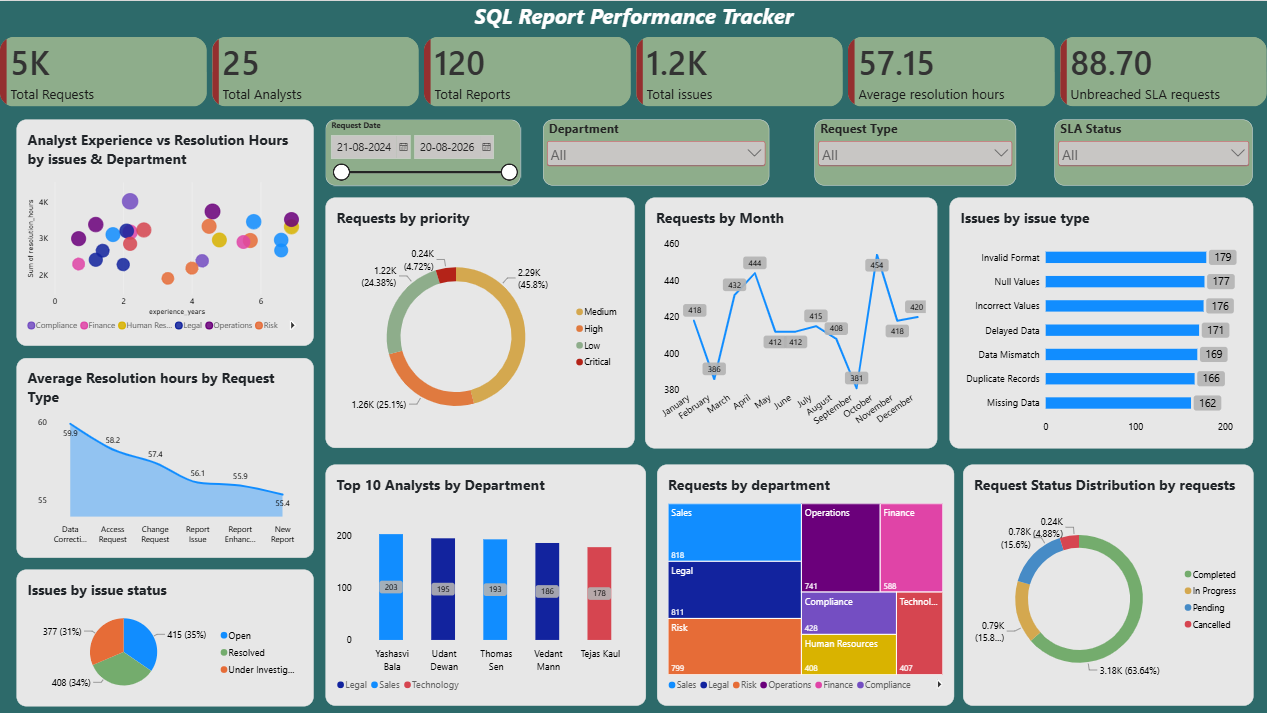

The dashboard page shown, as its layout file describes it:
{"tool":"powerbi","page":{"name":"Page 1","canvas":[1920,1080],"ordinal":0},"visuals":[{"type":"textbox","box":[0,0,1920,55],"z":0},{"type":"cardVisual","fields":{"Data":["Count(report_requests.request_id)","Count(analysts.analyst_id)","Count(report_requests.report_id)","Count(data_quality_issues.issue_id)","Avg(report_requests.resolution_hours)","report_requests.SLA Percentage"]},"box":[0,55,1920,105],"z":1000},{"type":"treemap","title":"Requests by department","fields":{"Group":["analysts.department"],"Values":["CountNonNull(report_requests.request_id)"]},"box":[995,702.5,450,365],"z":2000},{"type":"donutChart","title":"Requests by priority","fields":{"Category":["report_requests.priority"],"Y":["CountNonNull(report_requests.request_id)"]},"box":[492.9,297.5,467.9,379.3],"z":3000},{"type":"lineChart","title":"Requests by Month","fields":{"Category":["report_requests.request_date.Variation.Date Hierarchy.Month"],"Y":["CountNonNull(report_requests.request_id)"]},"box":[977.5,297.5,442.5,380],"z":4000},{"type":"donutChart","title":"Request Status Distribution by requests","fields":{"Y":["Count(report_requests.request_id)"],"Category":["report_requests.status"]},"box":[1457.5,702.5,440,365],"z":5000},{"type":"areaChart","title":"Average Resolution hours by Request Type","fields":{"Category":["report_requests.request_type"],"Y":["Avg(report_requests.resolution_hours)"]},"box":[25,540,450,302.5],"z":6000},{"type":"columnChart","title":"Top 10 Analysts by Department","fields":{"Category":["analysts.analyst_name"],"Y":["CountNonNull(report_requests.request_id)"],"Series":["analysts.department"]},"box":[492.5,702.5,485,365],"z":7000},{"type":"barChart","title":"Issues by issue type","fields":{"Category":["data_quality_issues.issue_type"],"Y":["CountNonNull(data_quality_issues.issue_id)"]},"box":[1437.5,297.5,460,380],"z":8000},{"type":"pieChart","title":"Issues by issue status","fields":{"Category":["data_quality_issues.issue_status"],"Y":["CountNonNull(data_quality_issues.issue_id)"]},"box":[25,860,450,207.5],"z":9000},{"type":"scatterChart","title":"Analyst Experience vs Resolution Hours by issues & Department","fields":{"X":["Sum(analysts.experience_years)"],"Y":["Sum(data_quality_issues.resolution_hours)"],"Series":["analysts.department"],"Size":["CountNonNull(data_quality_issues.issue_id)"],"Category":["analysts.analyst_name"]},"box":[25,180,450,342.5],"z":10000},{"type":"slicer","fields":{"Values":["report_requests.request_date"]},"box":[492.5,180,295,100],"z":11000},{"type":"slicer","fields":{"Values":["analysts.department"]},"box":[822.5,180,342.5,100],"z":12000},{"type":"slicer","fields":{"Values":["report_requests.request_type"]},"box":[1232.5,180,305,100],"z":13000},{"type":"slicer","fields":{"Values":["report_requests.sla_status"]},"box":[1597.5,180,300,100],"z":14000}]}

Visuals, with their boxes in screenshot pixels (x1, y1, x2, y2), scaled from the page's 1920x1080 canvas onto the 1267x713 screenshot:
textbox: x1=0 y1=0 x2=1266 y2=36
cardVisual - Count(report_requests.request_id) x Count(analysts.analyst_id): x1=0 y1=36 x2=1266 y2=106
"Requests by department" treemap: x1=657 y1=464 x2=954 y2=705
"Requests by priority" donutChart: x1=325 y1=196 x2=634 y2=447
"Requests by Month" lineChart: x1=645 y1=196 x2=937 y2=447
"Request Status Distribution by requests" donutChart: x1=962 y1=464 x2=1252 y2=705
"Average Resolution hours by Request Type" areaChart: x1=16 y1=356 x2=313 y2=556
"Top 10 Analysts by Department" columnChart: x1=325 y1=464 x2=645 y2=705
"Issues by issue type" barChart: x1=949 y1=196 x2=1252 y2=447
"Issues by issue status" pieChart: x1=16 y1=568 x2=313 y2=705
"Analyst Experience vs Resolution Hours by issues & Department" scatterChart: x1=16 y1=119 x2=313 y2=345
slicer - report_requests.request_date: x1=325 y1=119 x2=520 y2=185
slicer - analysts.department: x1=543 y1=119 x2=769 y2=185
slicer - report_requests.request_type: x1=813 y1=119 x2=1015 y2=185
slicer - report_requests.sla_status: x1=1054 y1=119 x2=1252 y2=185
